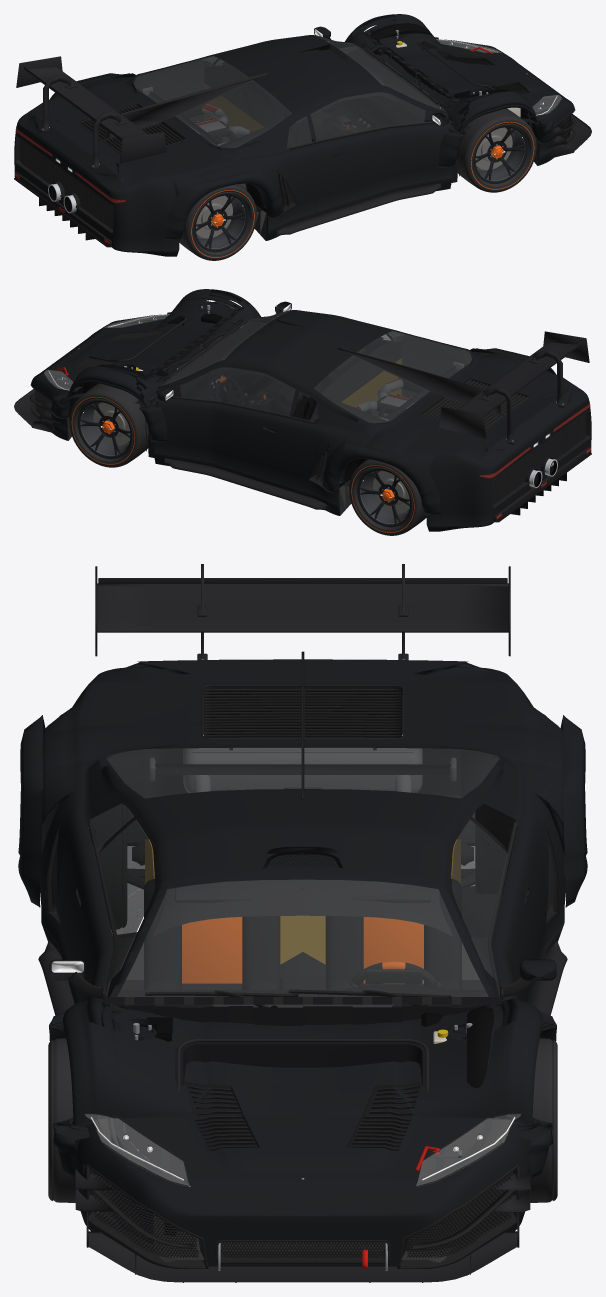
The model's file is hyper-track_studio.glb.
The picture shows the model from 3 angles, top to bottom: view 1: azimuth 30°, elevation 25°; view 2: azimuth 150°, elevation 25°; view 3: azimuth 270°, elevation 25°; orthographic projection. The views are drawn at different scales.
Parts seen in each view (by area): view 1: body, hood, wheel_fr, wheel_rr, bay, lamp_head, under; view 2: body, hood, wheel_fl, wheel_rl, bay, lamp_head, under; view 3: body, hood, bay, lamp_head, under, wheel_fr, wheel_fl, wheel_rr, hide.
Part boxes in pixels (bbox=[...]): body: bbox=[14, 14, 591, 256]; hood: bbox=[363, 19, 565, 112]; wheel_fr: bbox=[457, 108, 536, 192]; wheel_rr: bbox=[179, 184, 256, 260]; bay: bbox=[361, 21, 548, 149]; lamp_head: bbox=[436, 39, 561, 115]; under: bbox=[246, 131, 572, 240]; body: bbox=[14, 289, 591, 531]; hood: bbox=[40, 294, 238, 386]; wheel_fl: bbox=[69, 383, 148, 467]; wheel_rl: bbox=[349, 459, 426, 535]; bay: bbox=[55, 296, 244, 424]; lamp_head: bbox=[44, 314, 169, 390]; under: bbox=[33, 406, 351, 515]; body: bbox=[18, 564, 587, 1282]; hood: bbox=[102, 1004, 503, 1188]; bay: bbox=[100, 997, 505, 1243]; lamp_head: bbox=[85, 1114, 520, 1185]; under: bbox=[96, 796, 502, 1262]; wheel_fr: bbox=[48, 1038, 126, 1202]; wheel_fl: bbox=[530, 1038, 557, 1202]; wheel_rr: bbox=[88, 803, 127, 929]; hide: bbox=[141, 1213, 446, 1253].
Bounding box in the file's own units: 4.8 × 1.29 × 2.38.
